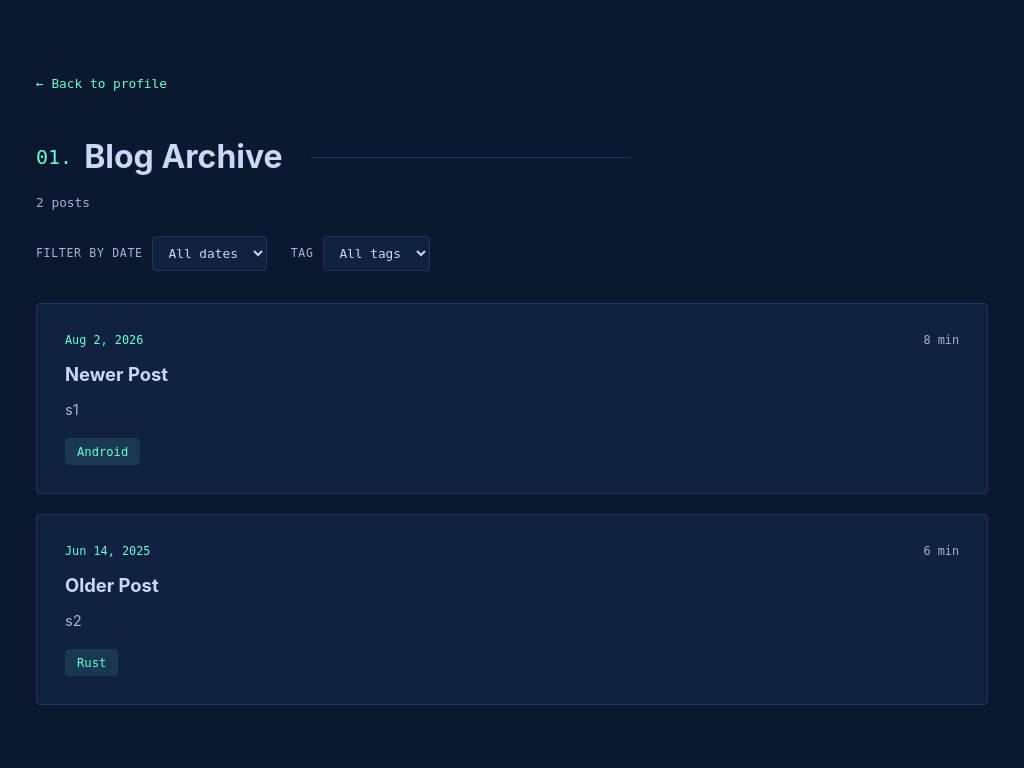
Test: Blogs reader view › shows an error when post html fails to load
Click the heading "Newer Post" at (116, 374), box [65, 363, 168, 385]
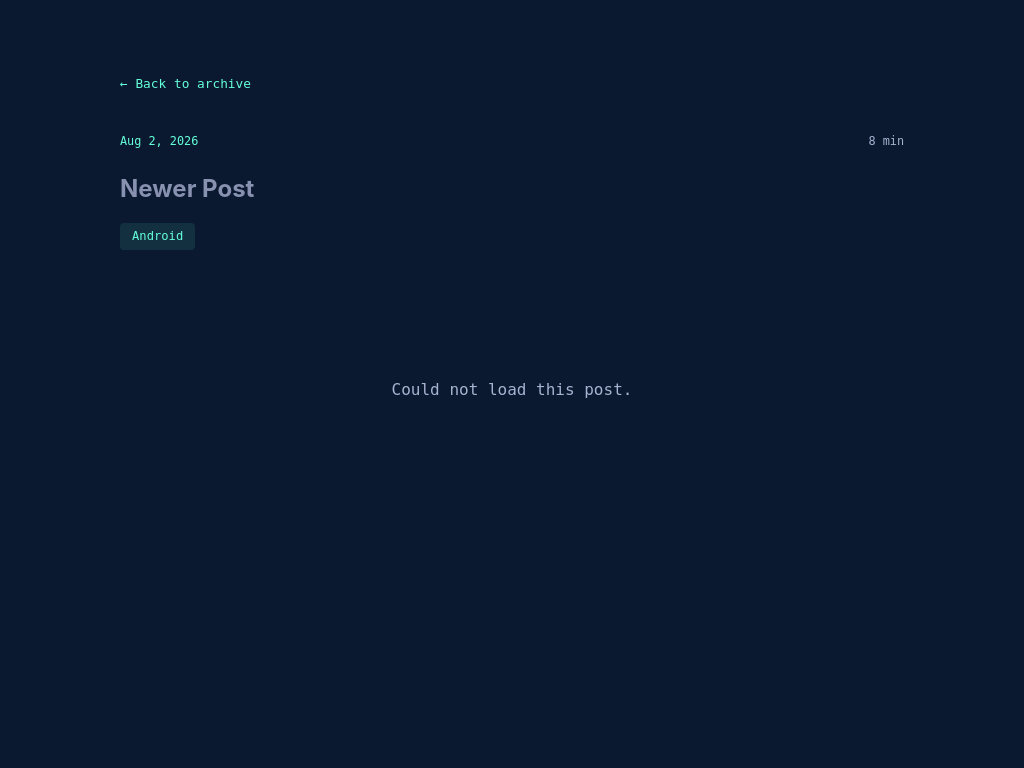
Now the text "Could not load this post." is shown, box [392, 380, 632, 399]
